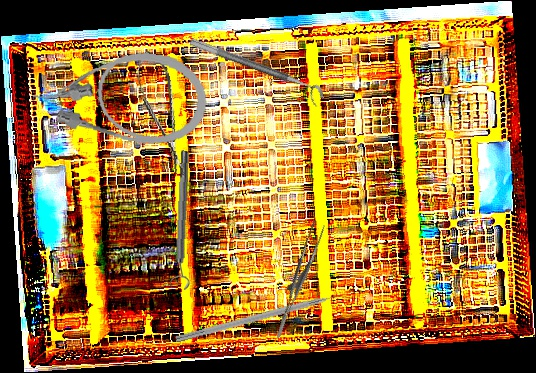Cannula: (28, 38, 213, 151)
Chopper: (174, 288, 356, 353)
Fixation Ring: (185, 36, 327, 109), (167, 150, 198, 290)
Micro Scissor: (132, 47, 192, 178)
Tissue Forceps: (257, 219, 337, 339)
